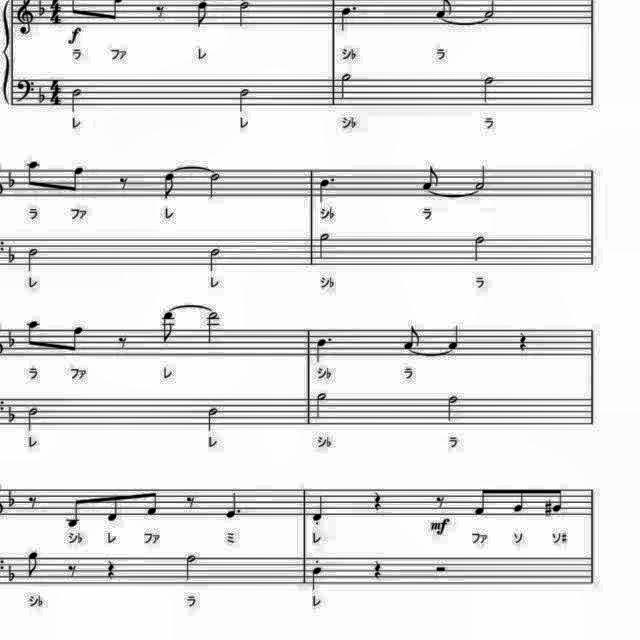Bass-clef: (12, 77, 36, 107)
Bemol: (4, 238, 20, 270), (3, 560, 21, 584), (4, 168, 18, 192), (4, 328, 18, 352), (4, 487, 18, 509), (5, 403, 18, 425), (36, 83, 48, 105), (36, 0, 49, 20)
Eighth-note: (64, 494, 86, 530), (160, 309, 180, 346), (400, 324, 426, 352), (418, 162, 442, 192), (65, 325, 87, 357), (66, 162, 88, 194), (23, 157, 44, 190), (24, 317, 44, 351), (104, 489, 124, 523), (191, 0, 213, 30), (142, 486, 162, 518), (160, 169, 180, 201), (472, 486, 492, 518), (510, 485, 530, 515), (25, 550, 43, 582), (550, 486, 568, 516), (431, 0, 457, 20)
Eighth-rest: (113, 172, 131, 194), (151, 1, 169, 22), (64, 559, 80, 581), (26, 492, 42, 512), (182, 492, 198, 512), (114, 332, 130, 352), (432, 492, 448, 512)
Half-note: (468, 231, 489, 265), (203, 310, 221, 348), (480, 73, 500, 107), (444, 392, 464, 426), (316, 227, 336, 261), (180, 550, 200, 582), (205, 246, 225, 278), (338, 72, 357, 105), (313, 390, 332, 422), (204, 405, 223, 435), (233, 83, 251, 113), (471, 161, 489, 191), (206, 170, 224, 200), (25, 404, 43, 434), (25, 246, 43, 274), (235, 0, 252, 28), (68, 86, 84, 115), (482, 1, 502, 20)
Half-rest: (430, 561, 450, 575)
Quarter-dot: (337, 2, 361, 34), (318, 176, 342, 208), (222, 488, 244, 522), (312, 335, 336, 365)
Quarter-note: (310, 492, 328, 524), (446, 324, 464, 354), (310, 564, 326, 592)
Quarter-rest: (102, 555, 120, 581), (368, 486, 384, 514), (368, 554, 384, 582), (516, 328, 532, 356)
